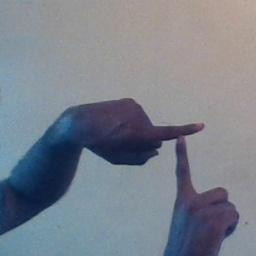T: (127, 103, 226, 207)
